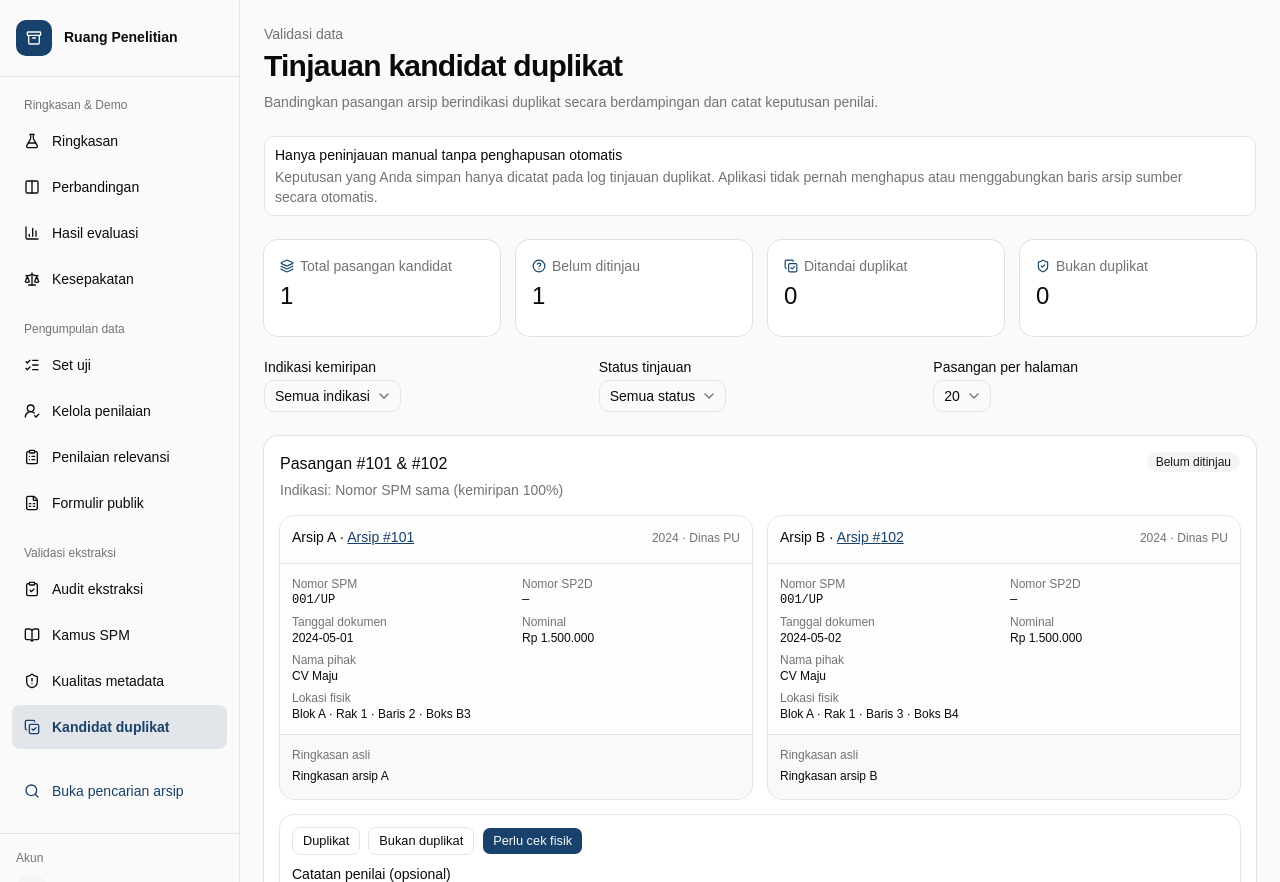
it: menampilkan pasangan berdampingan dan menyimpan keputusan dengan CSRF untuk admin
The image size is (1280, 882).
Check: the text "Pasangan #101 & #102" is shown, box [280,455,447,472]
Check: the text "Ringkasan arsip A" is shown, box [292,767,389,787]
Click the button "Duplikat" at (326, 841), box [292,827,360,855]
(page scrolled)
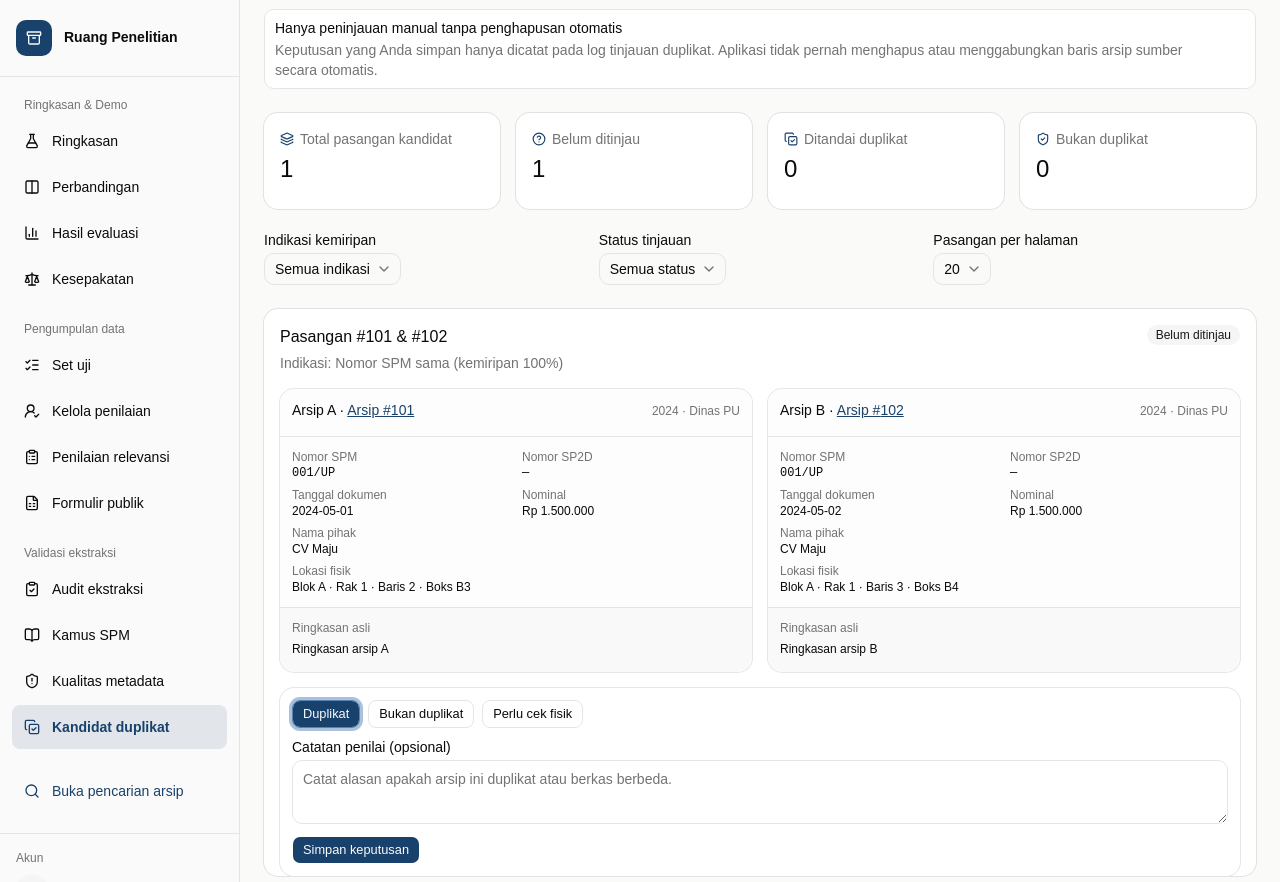
Type "Terindikasi ganda saat impor" into the text box labelled "Catatan penilai (opsional)" at (760, 792), box [292,760,1228,824]
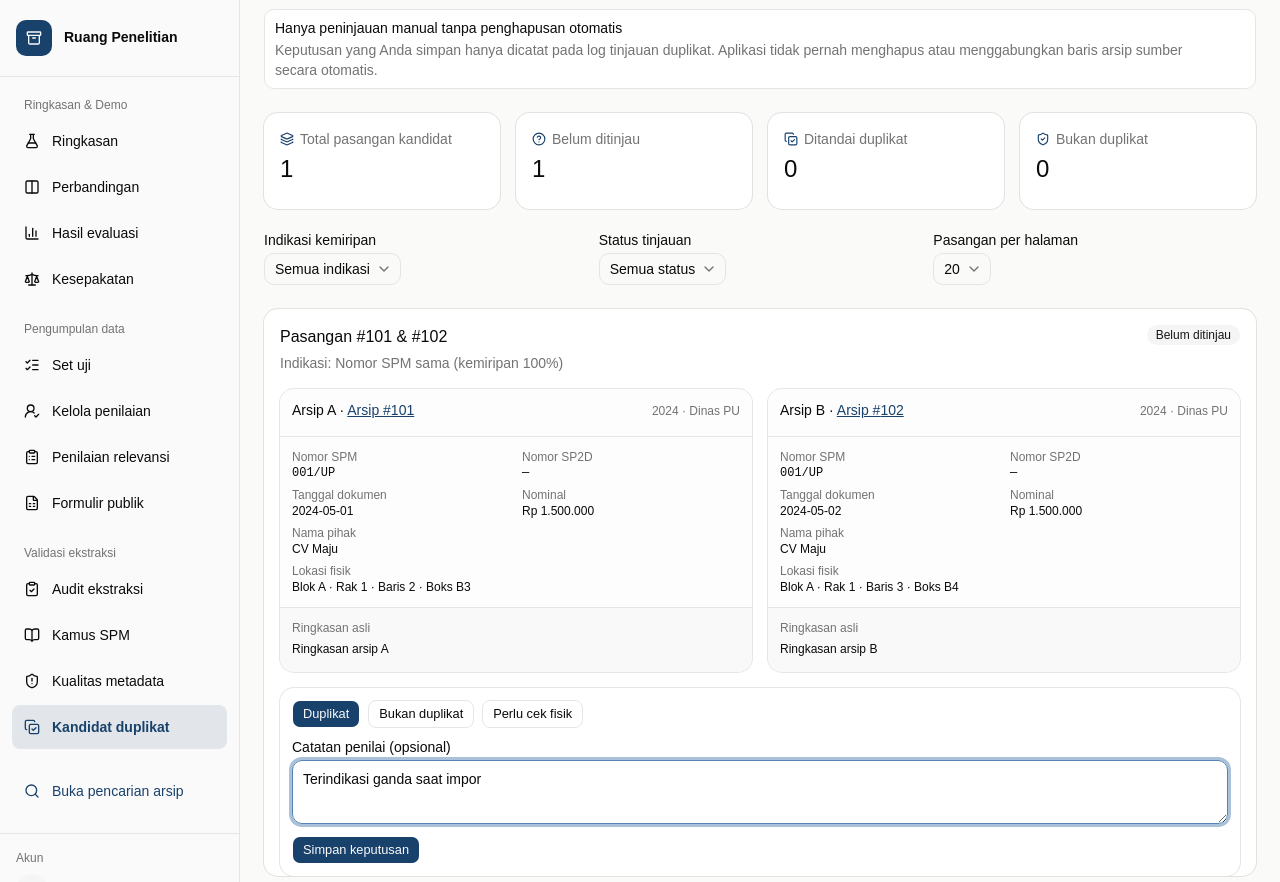
Click the button "Simpan keputusan" at (356, 850), box [292,836,420,864]
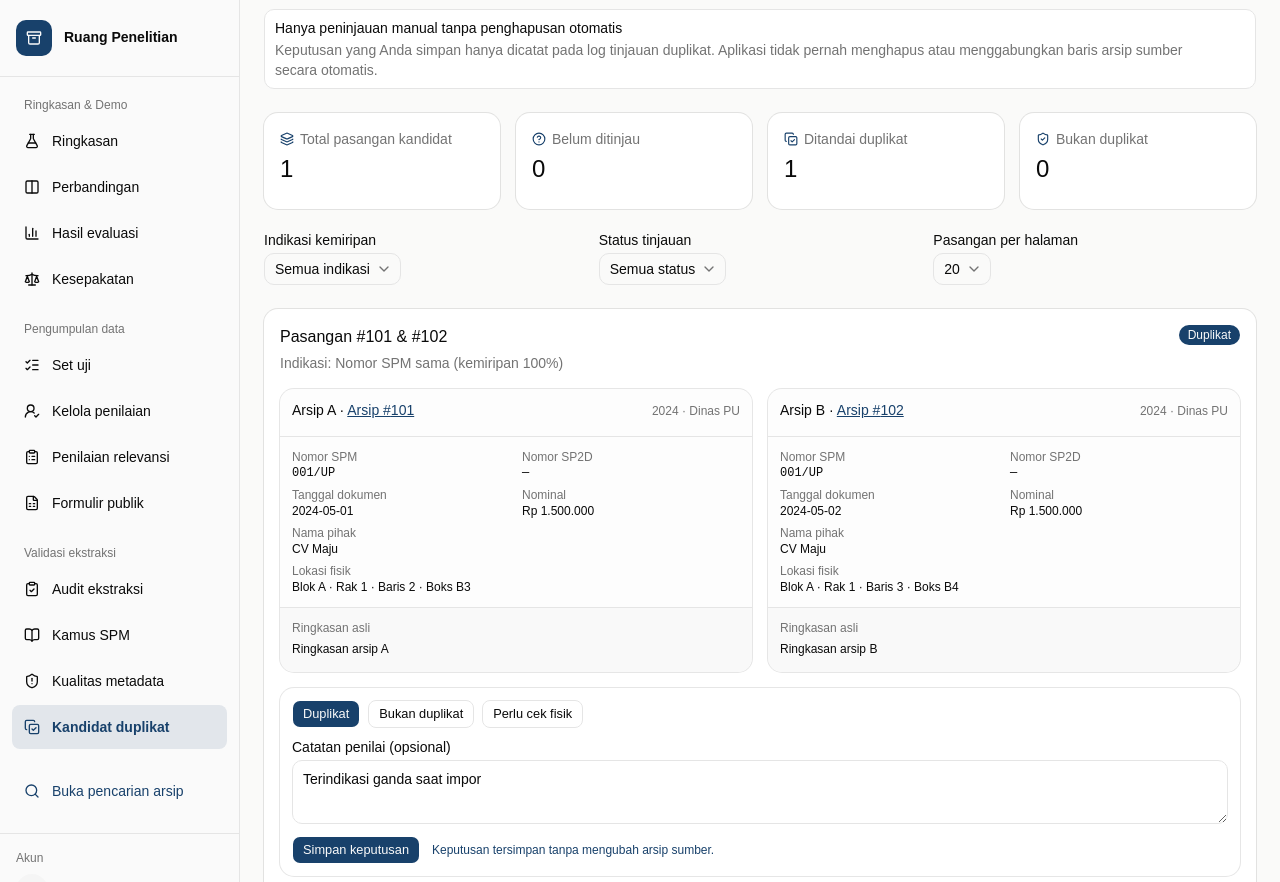
Check: the text "Keputusan tersimpan tanpa mengubah arsip sumber." is shown, box [432,842,714,858]
